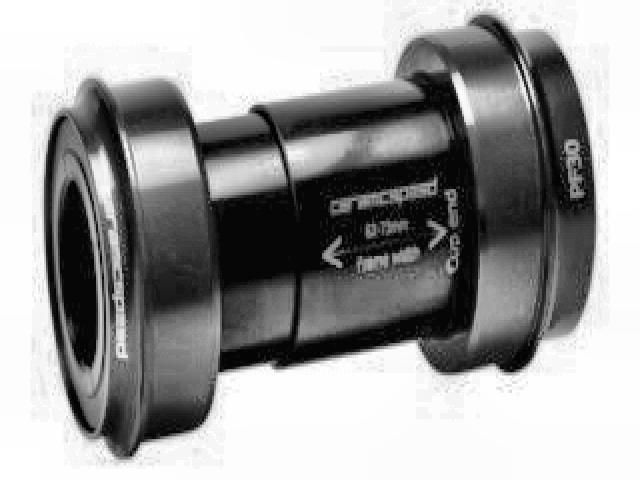bottom_bracket: (40, 9, 599, 462)
